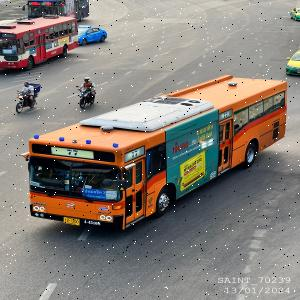BMTA-bus: (22, 75, 289, 231)
Bus Line Number: (60, 145, 87, 158), (130, 150, 138, 158)
Bus Side Number: (82, 219, 102, 226)
Destination Sign: (82, 187, 108, 200)
